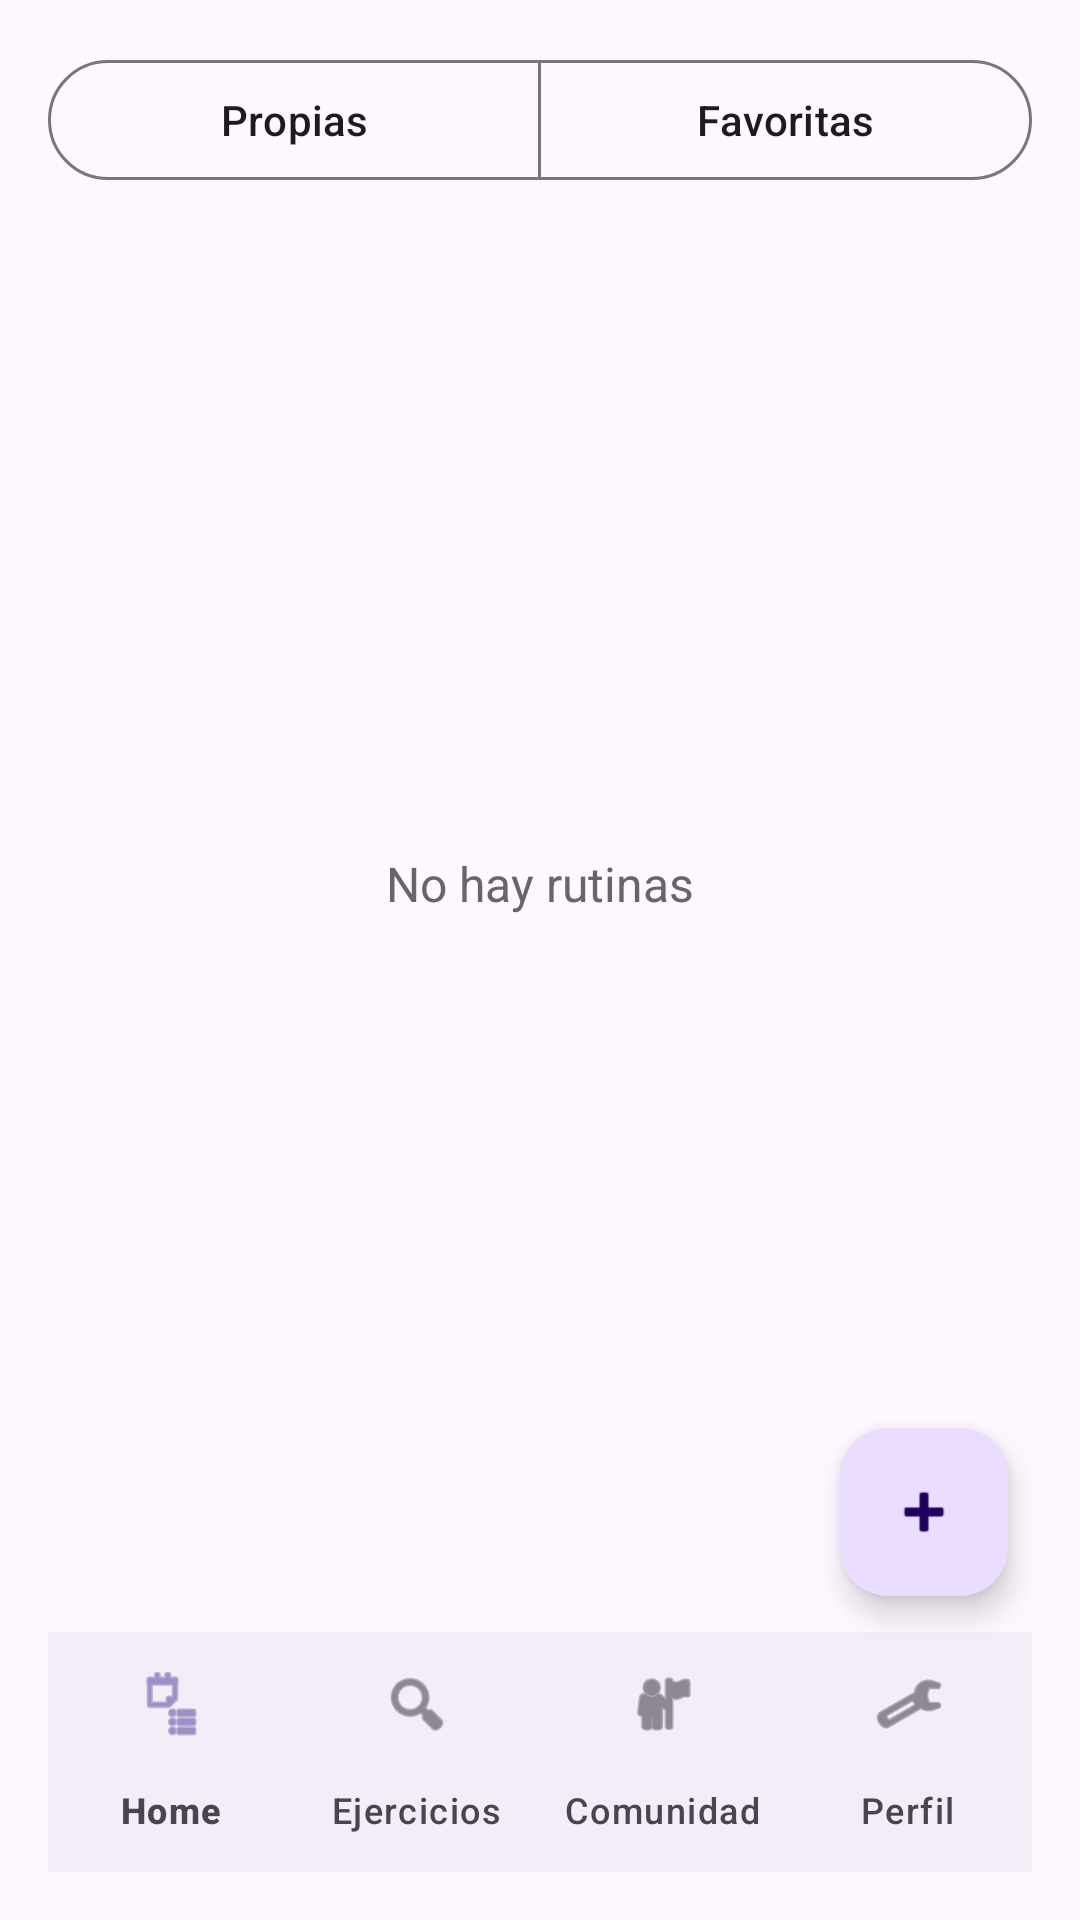

Icon click points for this 1080x1920 phone screenshot, format [x,y]:
Agregar rutina: [924,1512]
